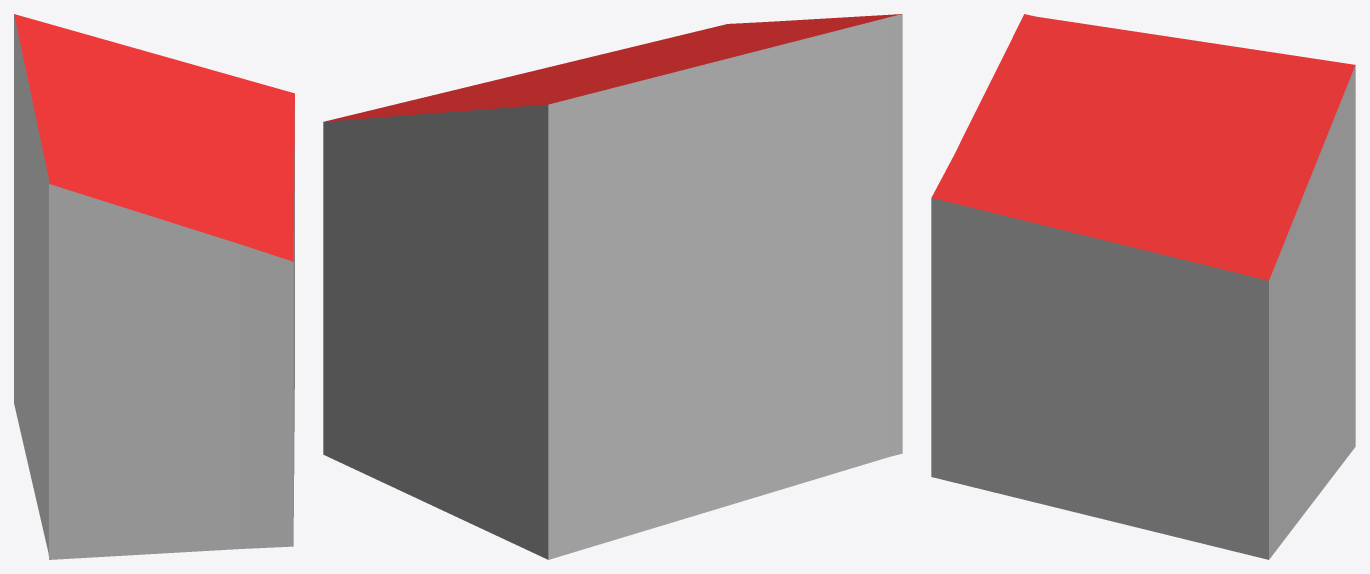
Rendered from DEBY_LOD2_4908168.dae.
3 renders of one model, left to right at view 1: azimuth 30°, elevation 25°; view 2: azimuth 150°, elevation 25°; view 3: azimuth 270°, elevation 25°, orthographic. The views are drawn at different scales.
Bounding box in the file's own units: 7.22 × 7.3 × 7.25.
